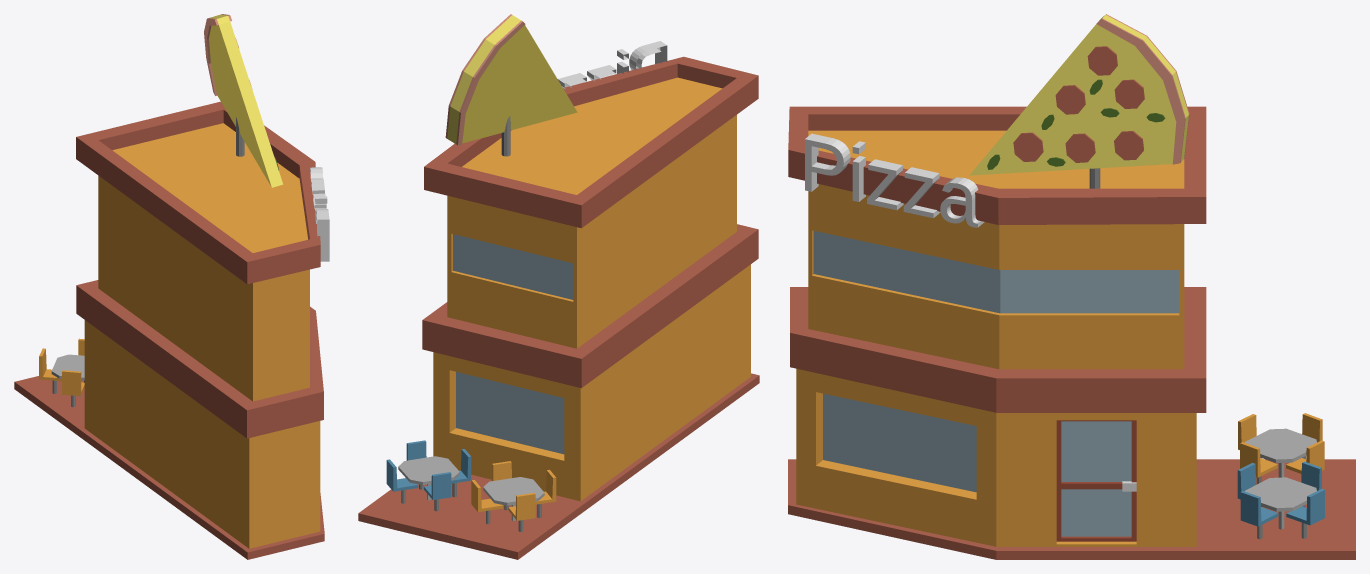
The model's file is pizza-pp.glb.
3 views of the same model, side by side, from view 1: azimuth 30°, elevation 25°; view 2: azimuth 150°, elevation 25°; view 3: azimuth 270°, elevation 25° (orthographic). The views are drawn at different scales.
Parts seen in each view (by area): view 1: pizza-pp; view 2: pizza-pp; view 3: pizza-pp.
Boxes of the visible parts, x1,y1,x2,y2 form: pizza-pp: (14, 14, 329, 559); pizza-pp: (358, 14, 759, 559); pizza-pp: (788, 14, 1355, 559).
Size of the model in its own units: 2.87 by 7.55 by 7.53.
1 material, 1 textured.
